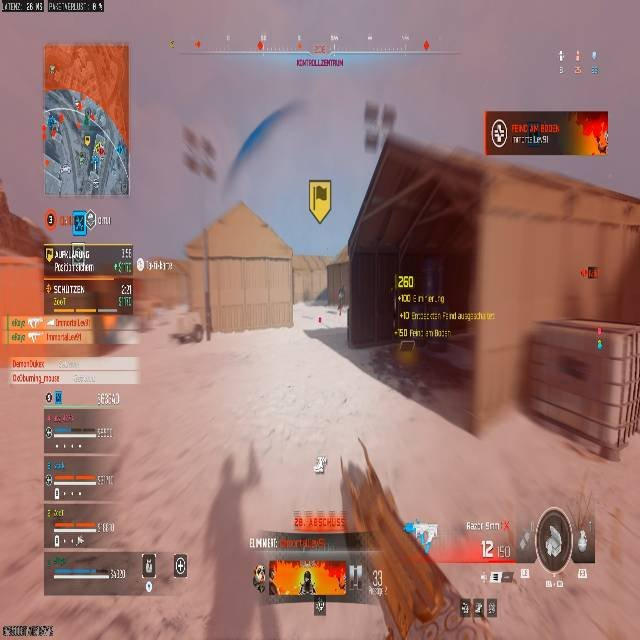player: (336, 286, 345, 315)
